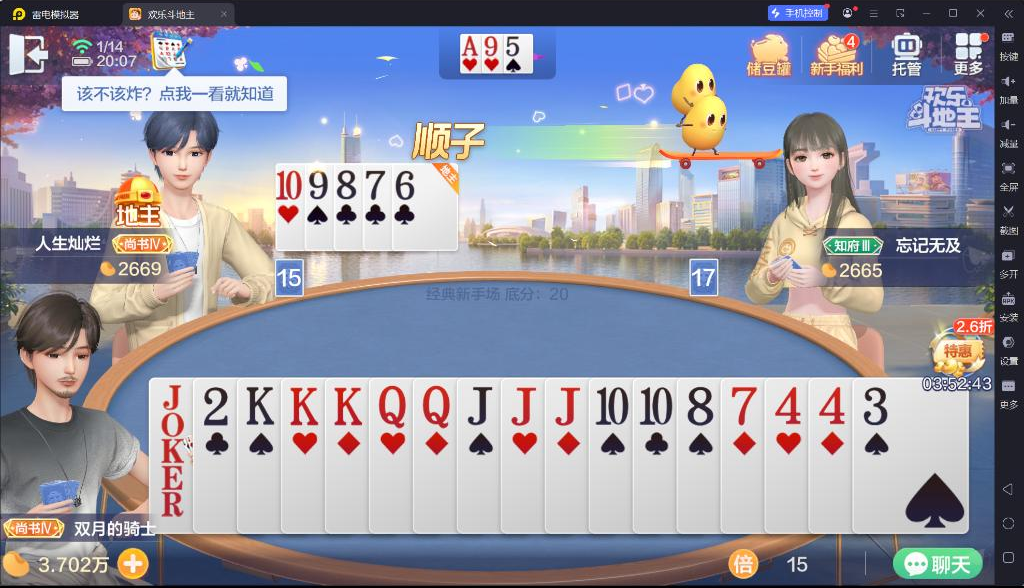A: (460, 34, 479, 58)
J: (506, 383, 539, 429), (550, 384, 584, 427), (465, 383, 495, 427)
JOKER: (156, 381, 186, 471)
K: (243, 383, 277, 428), (331, 383, 365, 427), (286, 383, 319, 427)
Q: (374, 383, 408, 429), (418, 384, 452, 430)
eight: (685, 383, 715, 427), (336, 169, 358, 201)
five: (503, 33, 522, 57)
four: (770, 384, 804, 426), (816, 384, 848, 427)
nine: (307, 170, 329, 202), (483, 34, 501, 58)
seven: (726, 383, 760, 429), (364, 167, 388, 201)
six: (394, 168, 416, 200)
ten: (636, 383, 674, 428), (593, 383, 630, 428), (276, 169, 303, 201)
three: (857, 384, 889, 427)
two: (200, 383, 230, 429)
